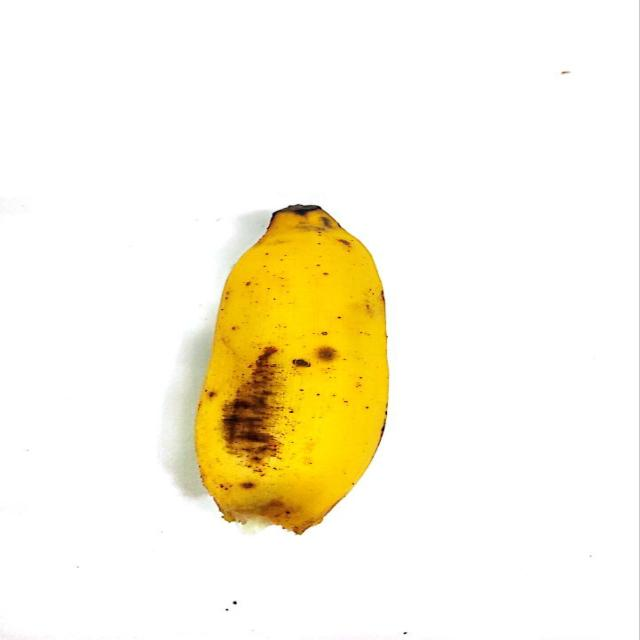fresh_banana: (196, 209, 386, 533)
